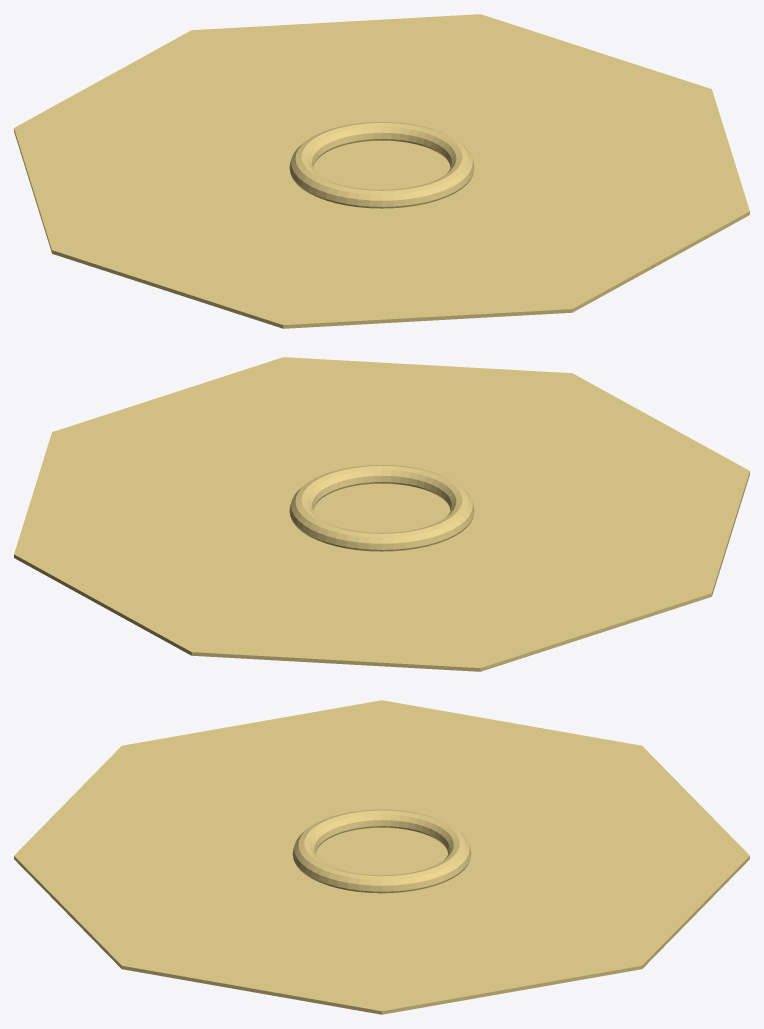
The model's file is source_pad.glb.
3 views of the same model, one above another, from view 1: azimuth 30°, elevation 25°; view 2: azimuth 150°, elevation 25°; view 3: azimuth 270°, elevation 25° (orthographic). The views are drawn at different scales.
Visible parts, largest first — view 1: Pad_Body, Rim_Ring; view 2: Pad_Body, Rim_Ring; view 3: Pad_Body, Rim_Ring.
Boxes of the visible parts, x1,y1,x2,y2 form: Pad_Body: (14,14,749,328); Rim_Ring: (289,122,474,208); Pad_Body: (14,357,749,671); Rim_Ring: (289,465,474,551); Pad_Body: (14,700,749,1014); Rim_Ring: (292,809,471,893).
Size of the model in its own units: 0.7577 by 0.038 by 0.7577.
